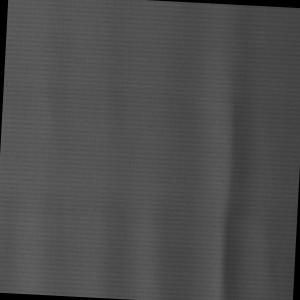Wrinkle: (81, 1, 192, 300), (192, 4, 293, 300)
